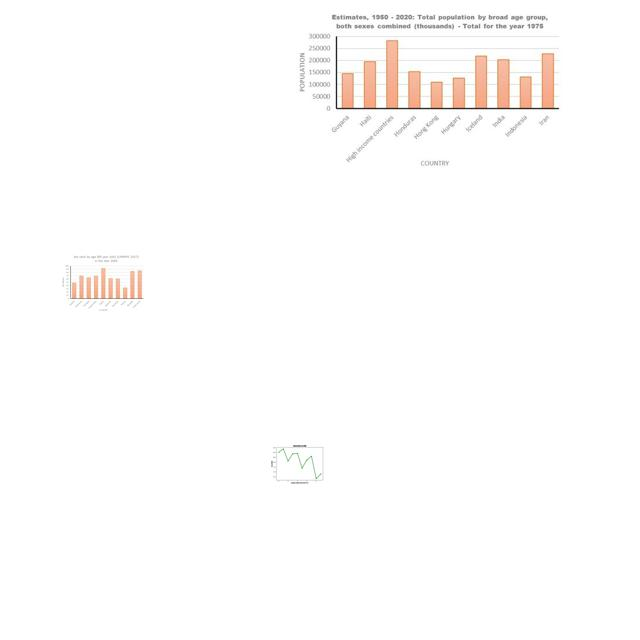Graph: (291, 9, 564, 170), (60, 254, 145, 313), (269, 441, 329, 486)
